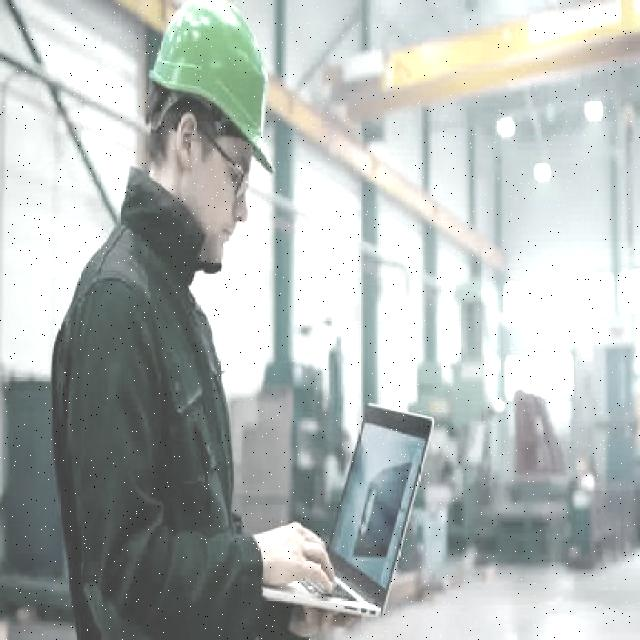Helmet: (148, 0, 276, 177)
